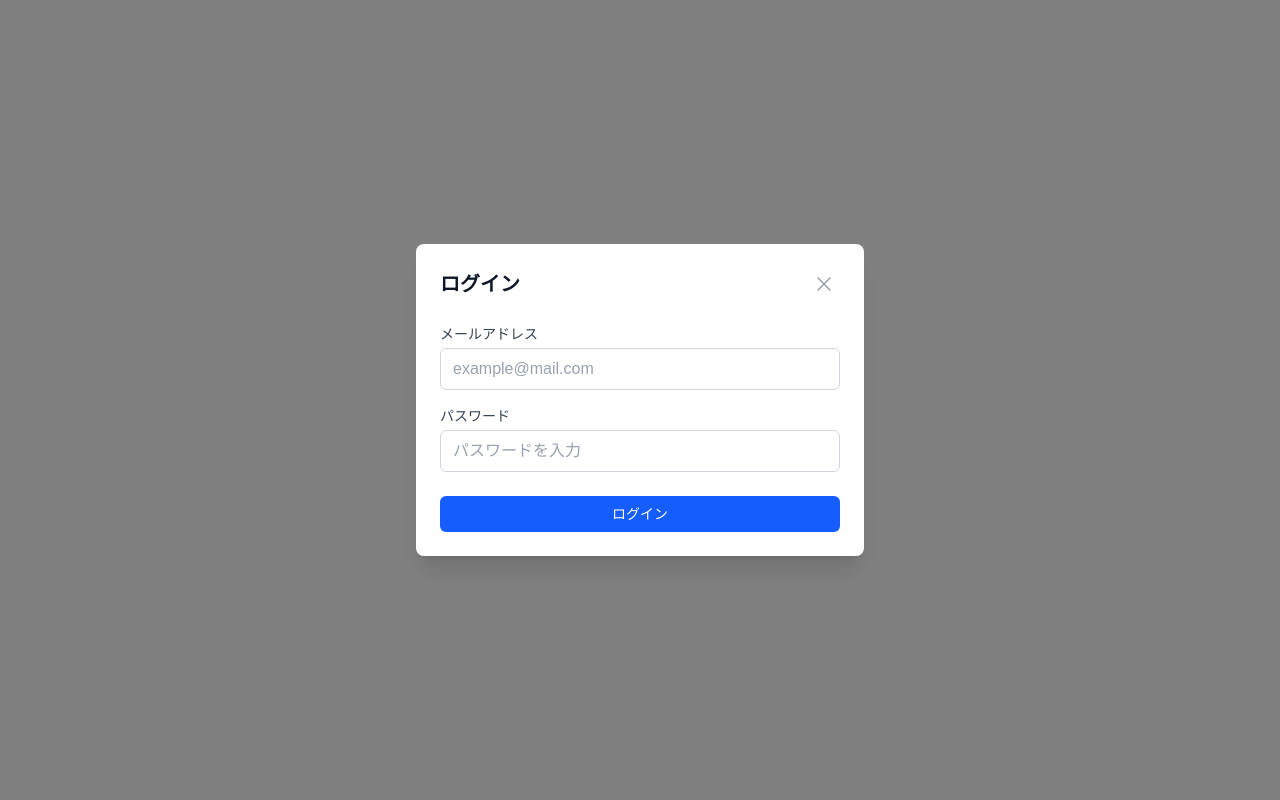
Scenario: LoginModal › ログイン失敗時にエラーメッセージが表示されること
Type "test@example.com" into the field labelled "メールアドレス" at {"x": 640, "y": 369}, box 440,348 -> 840,390
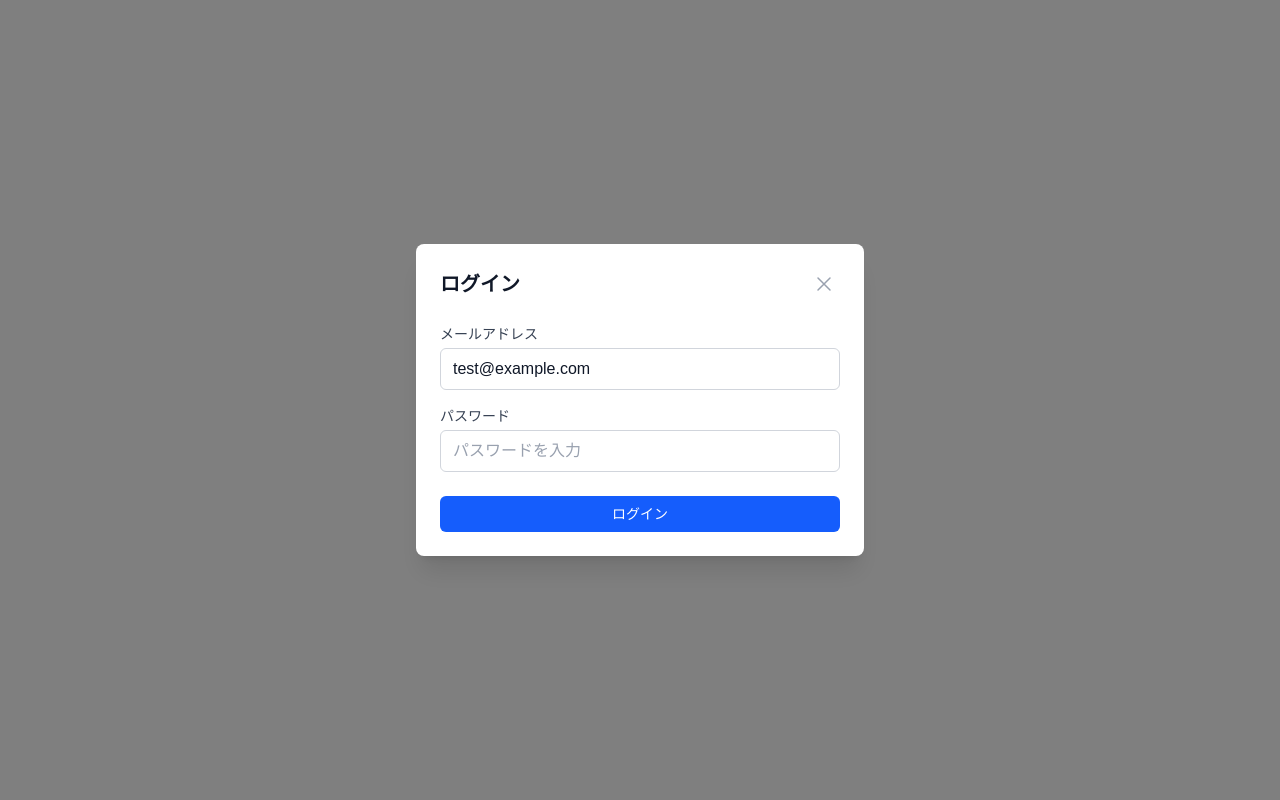
Type "wrongpassword" into the password field labelled "パスワード" at {"x": 640, "y": 451}, box 440,430 -> 840,472
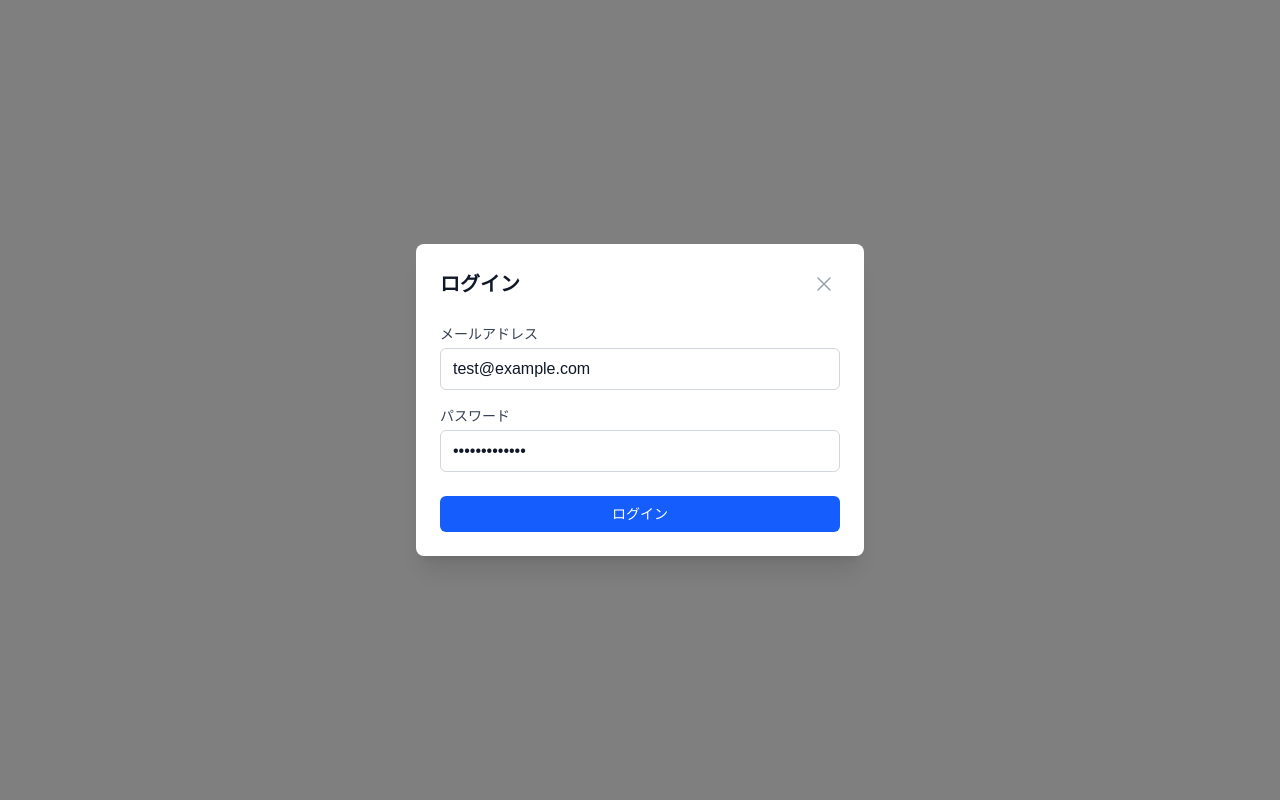
Click the button "ログイン" at {"x": 640, "y": 514}, box 440,496 -> 840,532
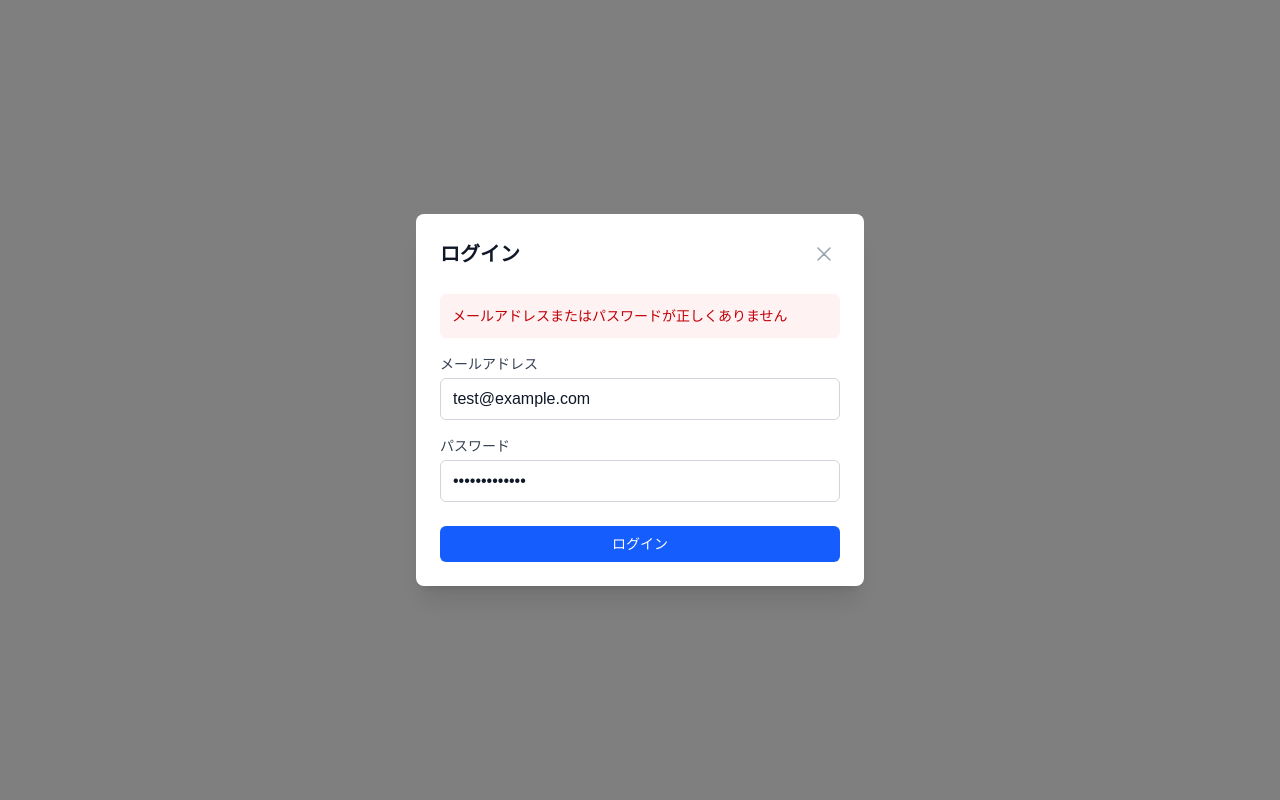
Expected: the text "メールアドレスまたはパスワードが正しくありません" is shown, 440,294 -> 840,338
